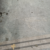zebra: (1, 6, 50, 46)
